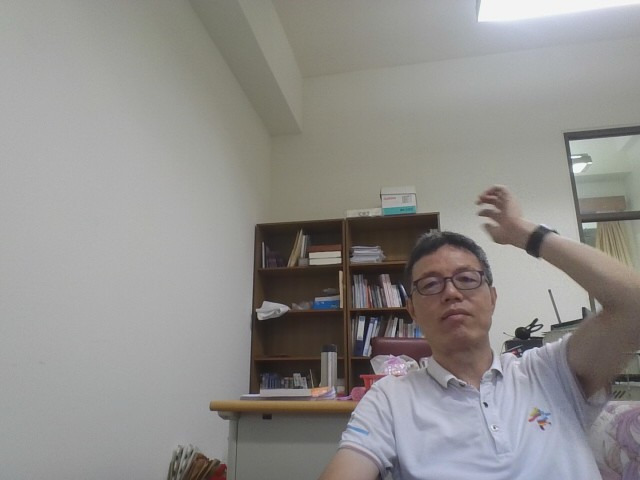No_Gloves: (473, 180, 537, 252)
No_Helmet: (400, 226, 499, 380)
person: (284, 158, 640, 480), (465, 82, 639, 480)
